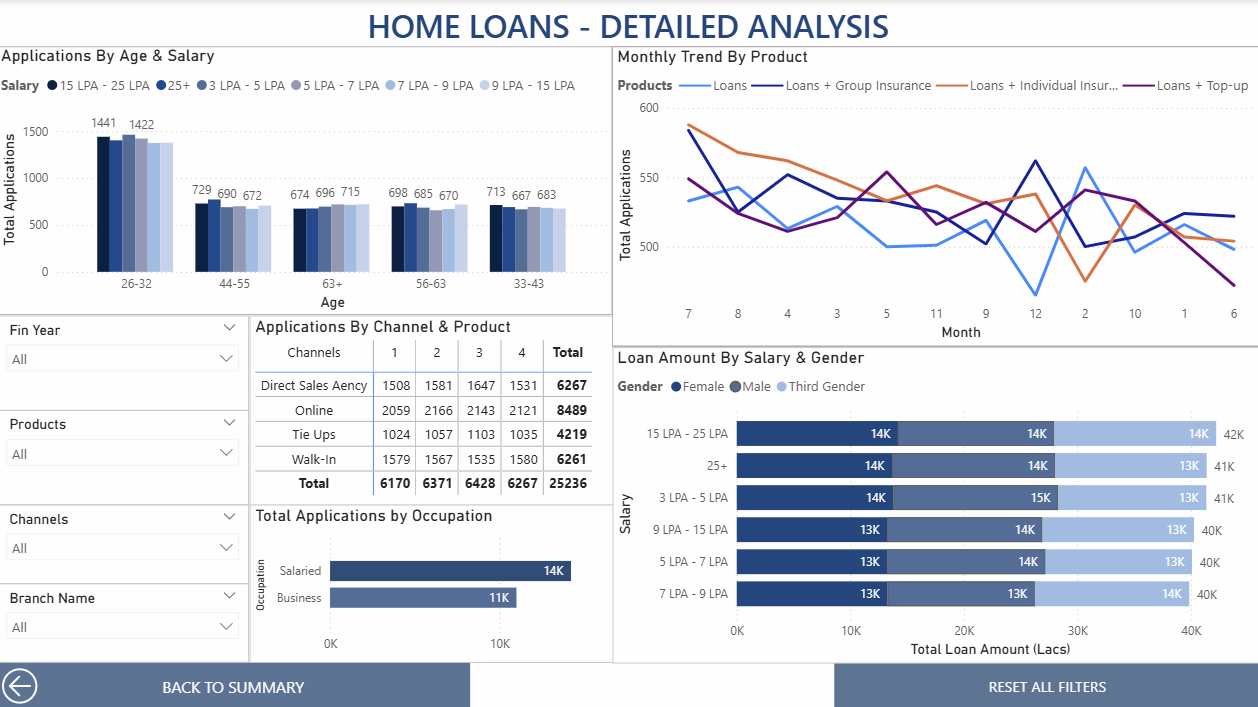

The page's visual inventory and layout, read from the dashboard file:
{"tool":"powerbi","page":{"name":"Detailed Analysis","canvas":[1280,720],"ordinal":1},"visuals":[{"type":"textbox","box":[0,0,1280,64],"z":0},{"type":"actionButton","box":[0,672,480,48],"z":1000},{"type":"actionButton","box":[848,672,432,48],"z":2000},{"type":"barChart","title":"Loan Amount By Salary & Gender","fields":{"Category":["Customer.Salary"],"Y":["Customer.Total Loan Amount (Lacs)"],"Series":["Customer.Gender"]},"box":[624,352,656,320],"z":3000},{"type":"pivotTable","title":"Applications By Channel & Product","fields":{"Values":["Customer.Total Applications"],"Rows":["Channel.Channels"],"Columns":["Product.Product Id"]},"box":[256,320,368,192],"z":4000},{"type":"lineChart","title":"Monthly Trend By Product","fields":{"Category":["Customer.Month"],"Y":["Customer.Total Applications"],"Series":["Product.Products"]},"box":[624,48,656,304],"z":5000},{"type":"clusteredColumnChart","title":"Applications By Age & Salary","fields":{"Category":["Customer.Age"],"Y":["Customer.Total Applications"],"Series":["Customer.Salary"]},"box":[0,48,624,272],"z":6000},{"type":"slicer","fields":{"Values":["Product.Products"]},"box":[0,416,256,96],"z":7000},{"type":"slicer","fields":{"Values":["Customer.Fin Year"]},"box":[0,320,256,96],"z":8000},{"type":"slicer","fields":{"Values":["Channel.Channels"]},"box":[0,512,256,80],"z":9000},{"type":"slicer","fields":{"Values":["Branch.Branch Name"]},"box":[0,592,256,80],"z":10000},{"type":"barChart","fields":{"Category":["Customer.Occupation"],"Y":["Customer.Total Applications"]},"box":[256,512,368,160],"z":11000},{"type":"shape","box":[0,48,624,272],"z":12000},{"type":"shape","box":[624,48,656,304],"z":13000},{"type":"shape","box":[0,0,1280,720],"z":14000}]}

Visuals, with their boxes in screenshot pixels (x1, y1, x2, y2), scaled from the page's 1280x720 canvas onto the 1258x707 screenshot:
textbox: (0, 0, 1257, 63)
actionButton: (0, 660, 472, 706)
actionButton: (833, 660, 1257, 706)
"Loan Amount By Salary & Gender" barChart: (613, 346, 1257, 660)
"Applications By Channel & Product" pivotTable: (252, 314, 613, 503)
"Monthly Trend By Product" lineChart: (613, 47, 1257, 346)
"Applications By Age & Salary" clusteredColumnChart: (0, 47, 613, 314)
slicer - Product.Products: (0, 408, 252, 503)
slicer - Customer.Fin Year: (0, 314, 252, 408)
slicer - Channel.Channels: (0, 503, 252, 581)
slicer - Branch.Branch Name: (0, 581, 252, 660)
barChart - Customer.Occupation x Customer.Total Applications: (252, 503, 613, 660)
shape: (0, 47, 613, 314)
shape: (613, 47, 1257, 346)
shape: (0, 0, 1257, 706)
